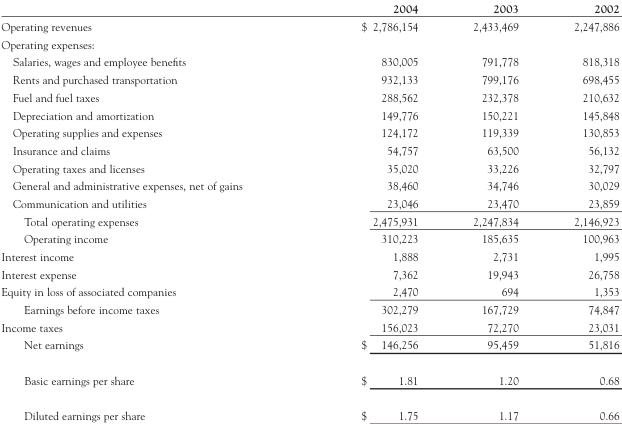table: (0, 1, 618, 421)
table column: (0, 1, 301, 421), (301, 1, 444, 421), (444, 1, 545, 421), (545, 1, 618, 421)
table column header: (0, 1, 618, 17)
table projected row header: (0, 34, 618, 52)
table row: (0, 361, 618, 397), (0, 335, 618, 361), (0, 397, 618, 421), (0, 34, 618, 52), (0, 52, 618, 70), (0, 87, 618, 105), (0, 105, 618, 123), (0, 140, 618, 158), (0, 158, 618, 176), (0, 193, 618, 211), (0, 211, 618, 229), (0, 246, 618, 264), (0, 264, 618, 282), (0, 299, 618, 317), (0, 317, 618, 335), (0, 17, 618, 34), (0, 70, 618, 87), (0, 123, 618, 140), (0, 176, 618, 193), (0, 229, 618, 246), (0, 282, 618, 299), (0, 1, 618, 17)
